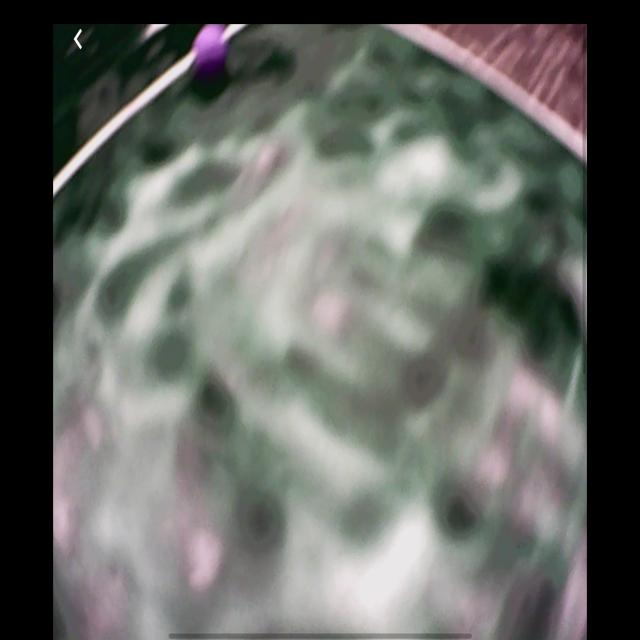ball: (191, 23, 231, 84)
